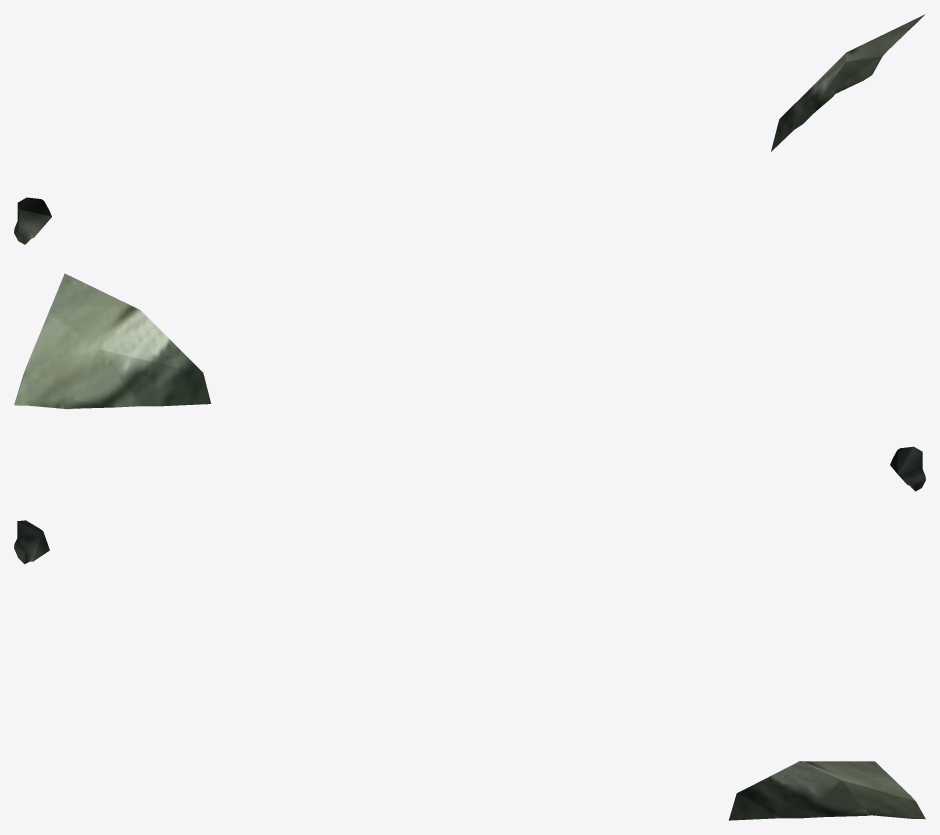
3 renders of one model, top to bottom at view 1: azimuth 30°, elevation 25°; view 2: azimuth 150°, elevation 25°; view 3: azimuth 330°, elevation 25°, orthographic. The views are drawn at different scales.
Bounding box in the file's own units: 25.29 × 3.61 × 2.58.
Materials: 1 (1 with a texture image).
